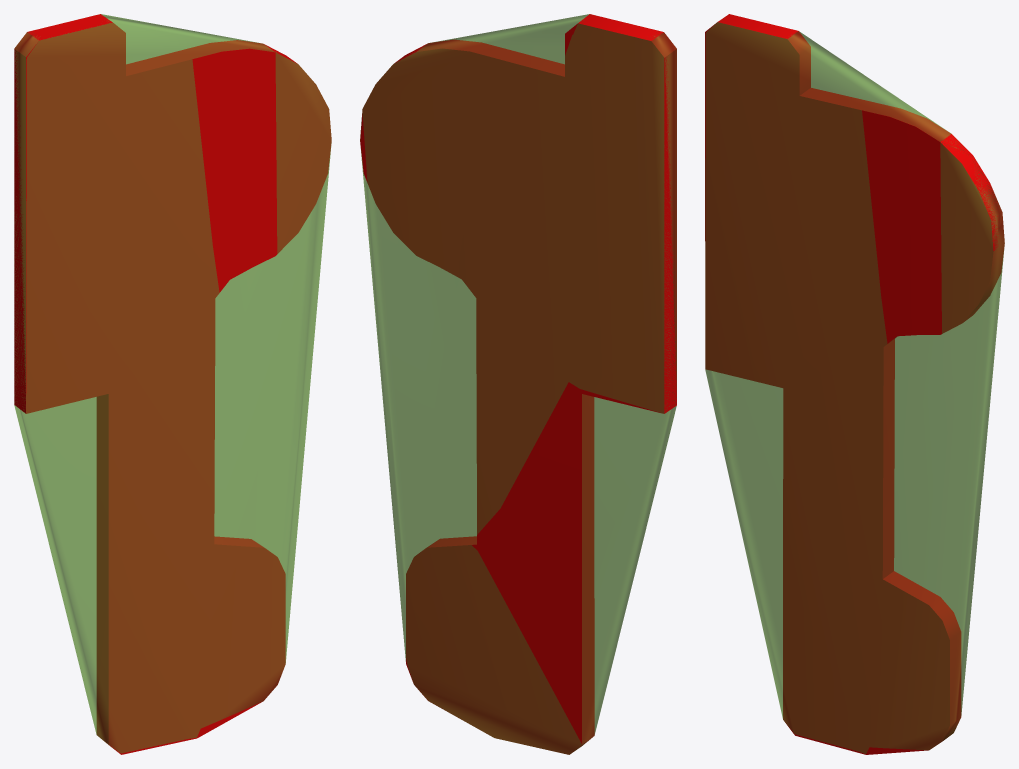
File: M_md_Stall2_cap_01.fbx
3 views of the same model, side by side, from view 1: azimuth 30°, elevation 25°; view 2: azimuth 150°, elevation 25°; view 3: azimuth 330°, elevation 25° (orthographic). The views are drawn at different scales.
Visible parts, largest first — view 1: M_md_Stall2_cap_01_col_01, M_md_Stall2_cap_01; view 2: M_md_Stall2_cap_01_col_01, M_md_Stall2_cap_01; view 3: M_md_Stall2_cap_01_col_01, M_md_Stall2_cap_01.
Part boxes in pixels (box(x1,y1,x2,y2)): M_md_Stall2_cap_01_col_01: box(14, 14, 331, 753); M_md_Stall2_cap_01: box(14, 14, 331, 754); M_md_Stall2_cap_01_col_01: box(360, 14, 676, 754); M_md_Stall2_cap_01: box(360, 14, 676, 754); M_md_Stall2_cap_01_col_01: box(705, 22, 1004, 753); M_md_Stall2_cap_01: box(705, 14, 1004, 754).
Size of the model in its own units: 6.86 by 15.8 by 0.4932.
